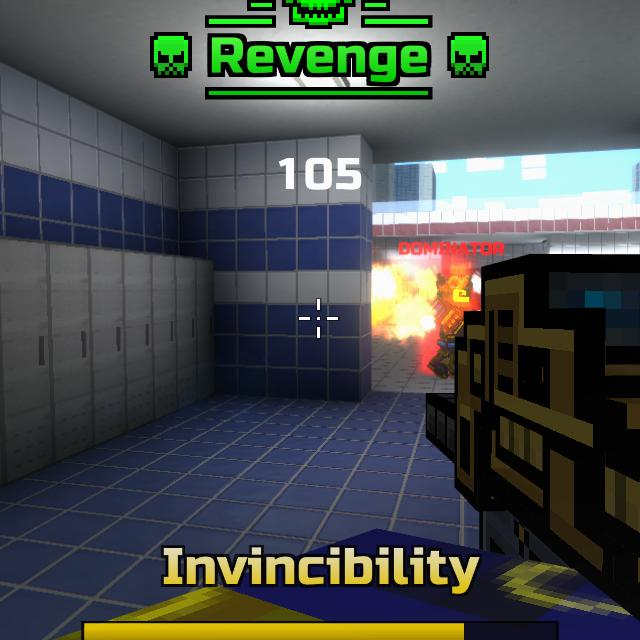Enemy: (427, 278, 473, 380)
